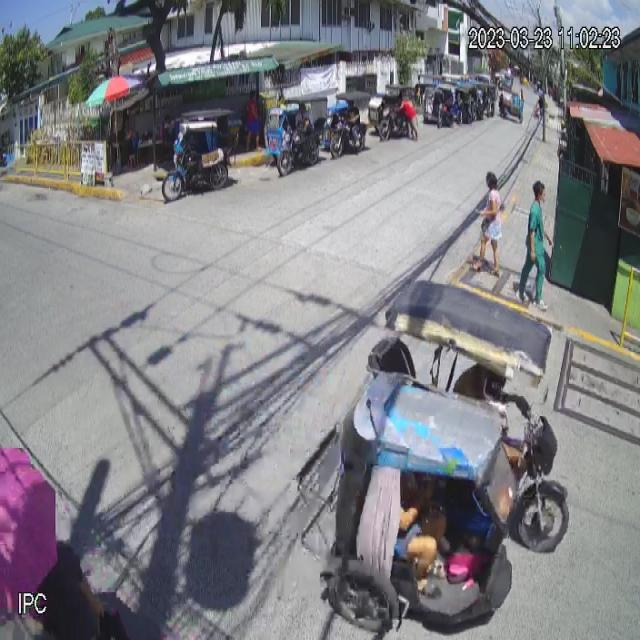Tricycle: (296, 278, 571, 640)
